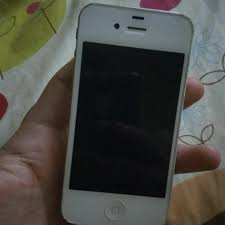mobil: (59, 1, 196, 224)
